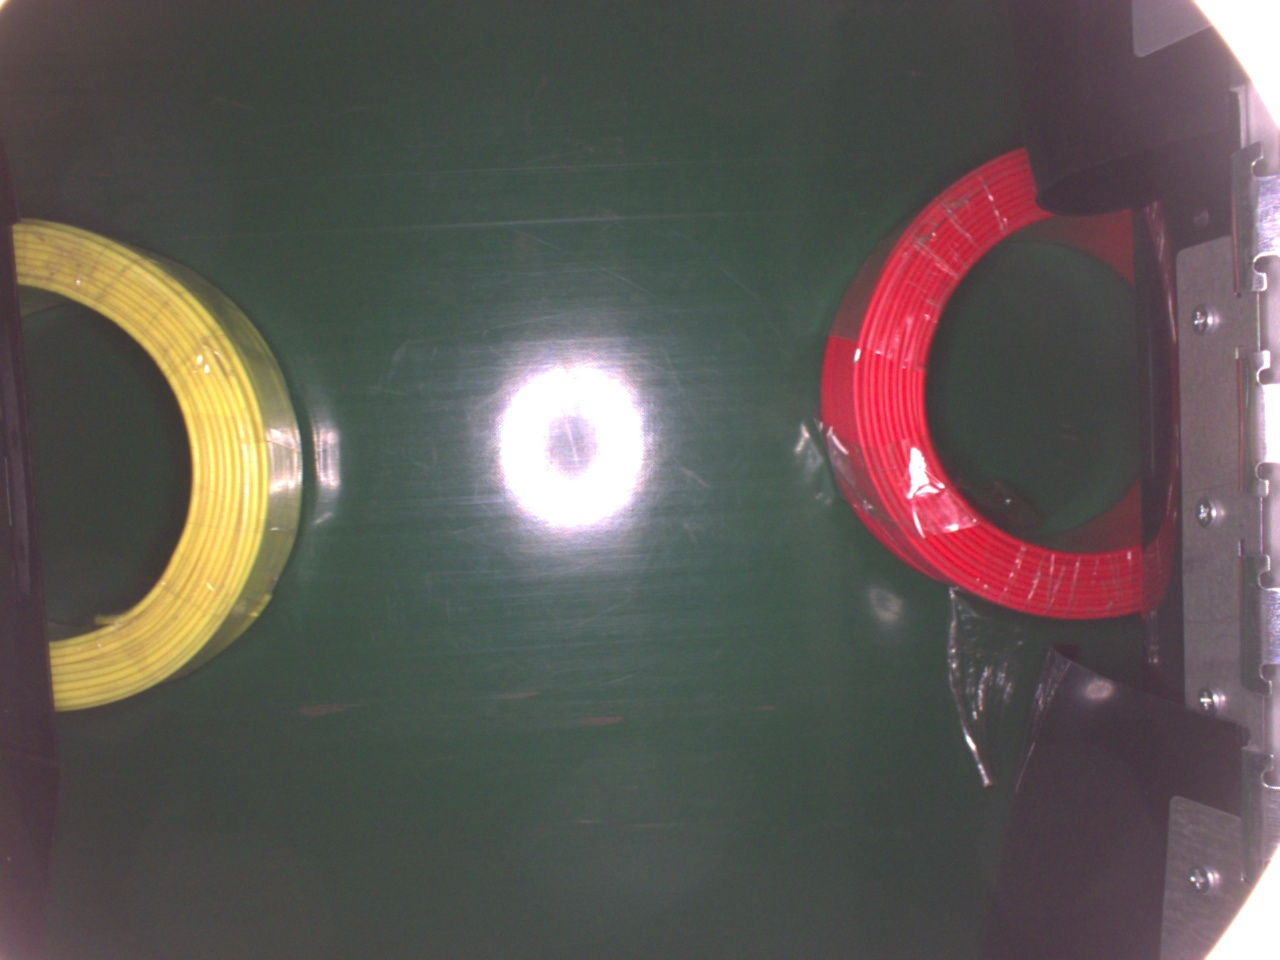red: (816, 143, 1148, 625)
yellow: (10, 209, 307, 713)
